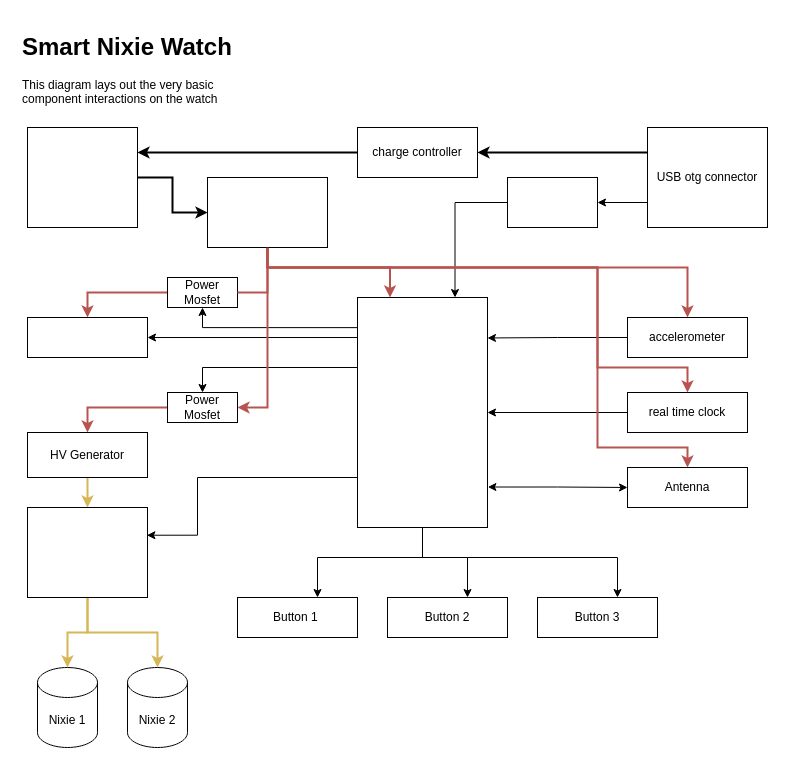
Image size: 785x765. Some labels were removed from this diagram. Each missing label, with the box of its shape:
BATTERY: (26, 126, 138, 228)
Microcontroller: (356, 296, 488, 528)
Nixie Driver: (26, 506, 148, 598)
OLED Display: (26, 316, 148, 358)
Power converter (to 3.3 or 5V) may need multiple depending on load: (206, 176, 328, 248)
USB TO SERIAL: (506, 176, 598, 228)
